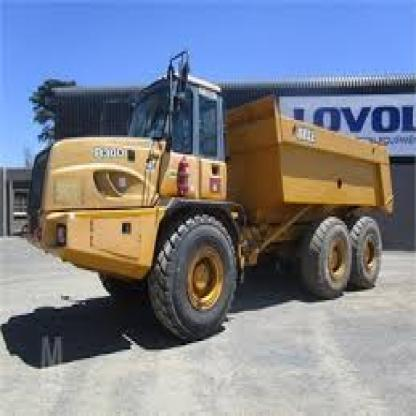dump_truck: (24, 54, 397, 345)
